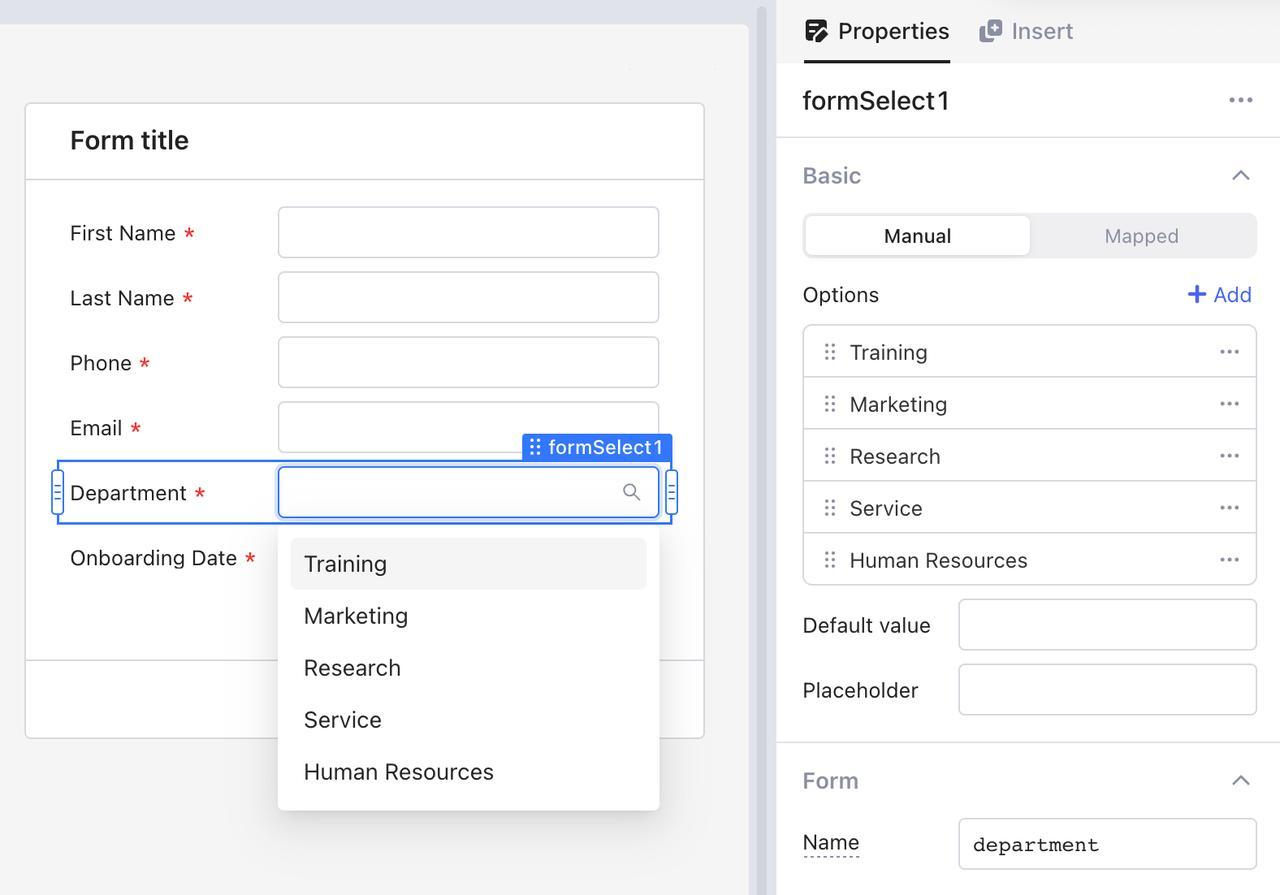button: (292, 537, 650, 595), (1032, 216, 1258, 258), (806, 216, 1031, 257)
icon: (666, 469, 681, 519), (1227, 165, 1256, 190), (51, 470, 67, 515), (821, 391, 841, 419), (1230, 773, 1255, 795), (821, 341, 840, 366), (824, 549, 839, 573), (1227, 95, 1257, 107), (1217, 347, 1246, 359), (1217, 398, 1245, 410), (1216, 450, 1244, 462), (825, 446, 839, 469), (825, 496, 838, 520), (1218, 504, 1243, 514), (1220, 556, 1241, 564)
input: (279, 338, 661, 389), (279, 467, 660, 518), (279, 209, 659, 259), (280, 274, 661, 323), (961, 600, 1257, 651), (960, 820, 1257, 870), (960, 666, 1258, 715)
label: (801, 88, 951, 119), (305, 761, 494, 785), (68, 547, 257, 570), (70, 127, 188, 158), (802, 613, 934, 639), (70, 483, 205, 507), (801, 678, 920, 704), (69, 288, 196, 310), (71, 223, 197, 245), (304, 606, 411, 631), (840, 23, 954, 44), (66, 351, 150, 376), (305, 659, 403, 679), (805, 162, 868, 192), (800, 769, 865, 796), (1009, 21, 1078, 46), (303, 710, 382, 731), (70, 419, 142, 441), (802, 833, 863, 854)
